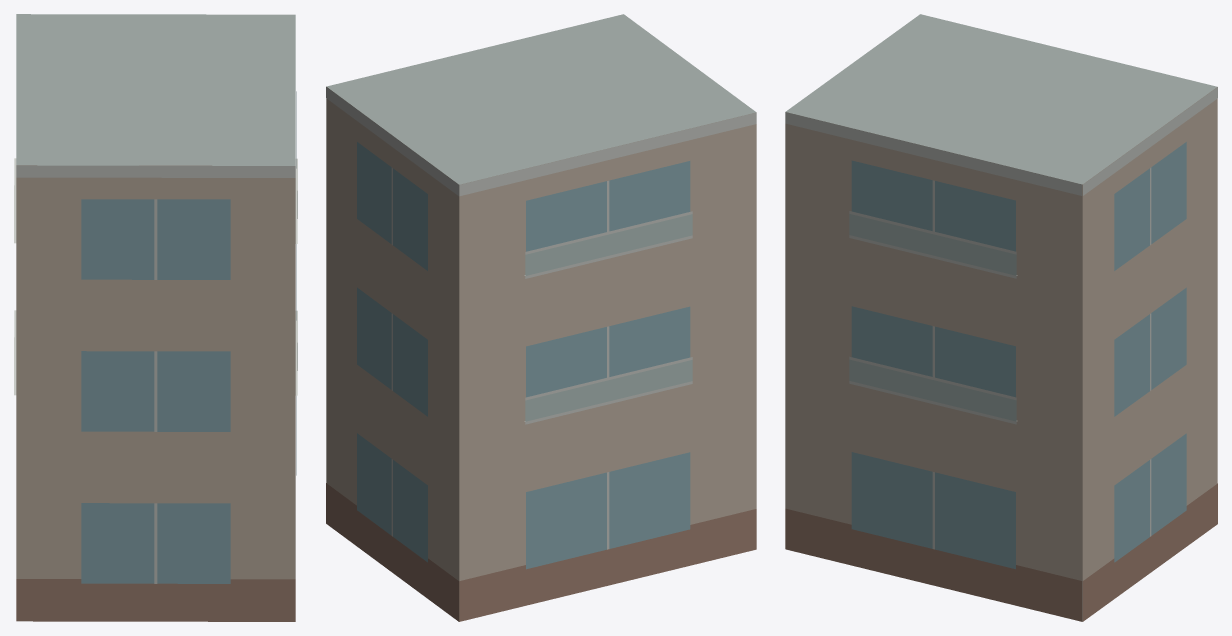
The model's file is survey-upis-32487711.glb.
3 renders of one model, left to right at view 1: azimuth 30°, elevation 25°; view 2: azimuth 150°, elevation 25°; view 3: azimuth 270°, elevation 25°, orthographic. The views are drawn at different scales.
Visible parts, largest first — view 1: survey-upis-32487711.tmp; view 2: survey-upis-32487711.tmp; view 3: survey-upis-32487711.tmp.
Part boxes in pixels (box(x1,y1,x2,y2)): survey-upis-32487711.tmp: box(14, 14, 297, 621); survey-upis-32487711.tmp: box(326, 14, 756, 621); survey-upis-32487711.tmp: box(785, 14, 1217, 621).
Bounding box in the file's own units: 7.66 × 9.15 × 8.21.
